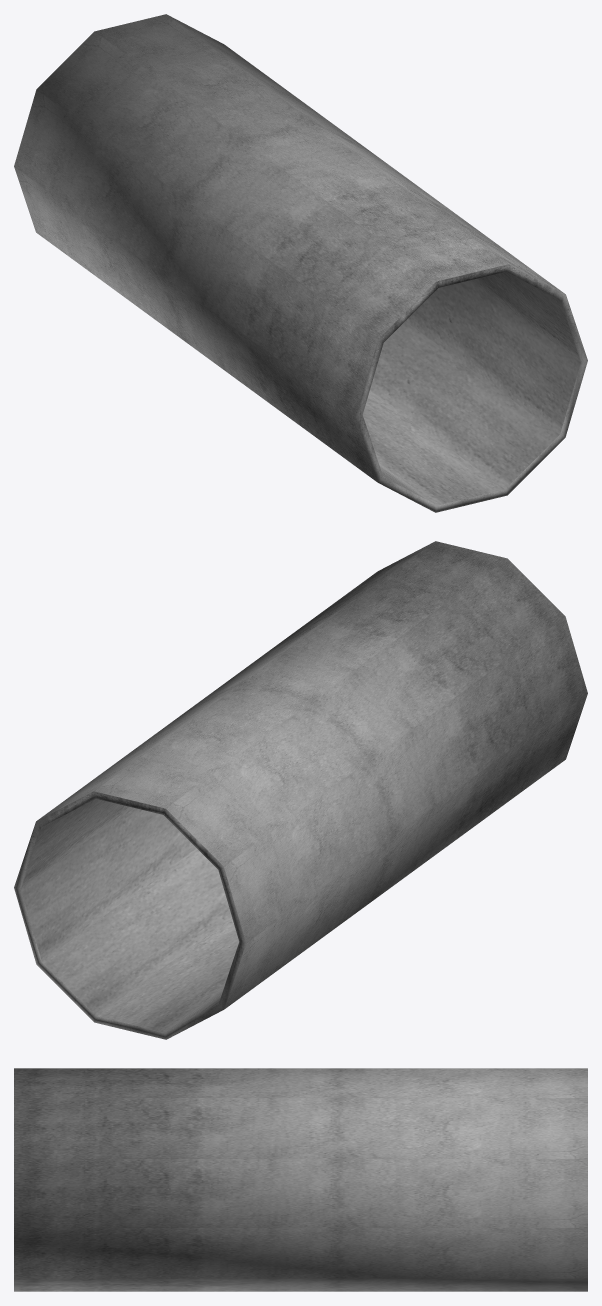
Rendered from tubBig.fbx.
3 views of the same model, one above another, from view 1: azimuth 30°, elevation 25°; view 2: azimuth 150°, elevation 25°; view 3: azimuth 270°, elevation 25° (orthographic). The views are drawn at different scales.
Parts seen in each view (by area): view 1: cylinder; view 2: cylinder; view 3: cylinder.
Part boxes in pixels (x1,y1,x2,y2): cylinder: (14, 14, 587, 512); cylinder: (14, 541, 587, 1039); cylinder: (14, 1068, 587, 1291).
Bounding box in the file's own units: 1.1 × 1.05 × 2.81.
